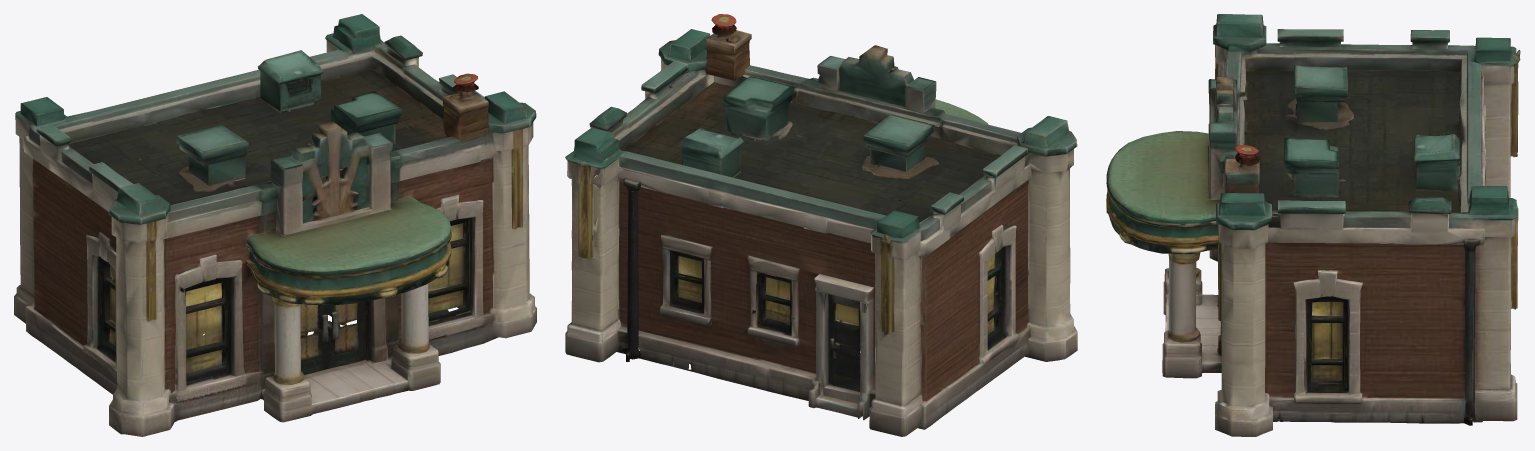
The picture shows the model from 3 angles, left to right: view 1: azimuth 30°, elevation 25°; view 2: azimuth 150°, elevation 25°; view 3: azimuth 270°, elevation 25°; orthographic projection. The views are drawn at different scales.
Parts seen in each view (by area): view 1: expansion__hotel_1__native_mobile; view 2: expansion__hotel_1__native_mobile; view 3: expansion__hotel_1__native_mobile.
Part boxes in pixels (left/top/right/bottom): expansion__hotel_1__native_mobile: left=14, top=14, right=536, bottom=436; expansion__hotel_1__native_mobile: left=565, top=14, right=1077, bottom=436; expansion__hotel_1__native_mobile: left=1106, top=14, right=1520, bottom=436.
Size of the model in its own units: 1 by 0.6011 by 0.8476.
1 material, 1 textured.
